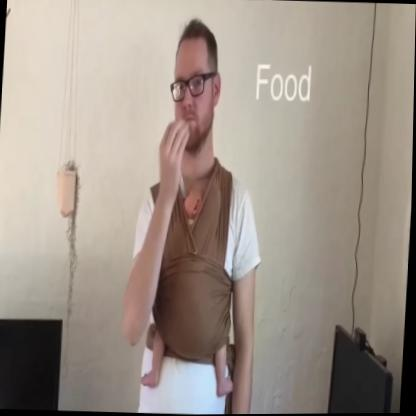Food: (134, 3, 232, 207)
